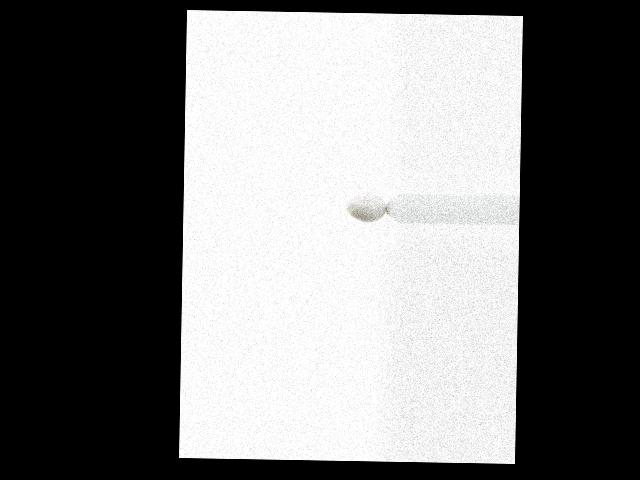egg: (346, 193, 386, 222)
